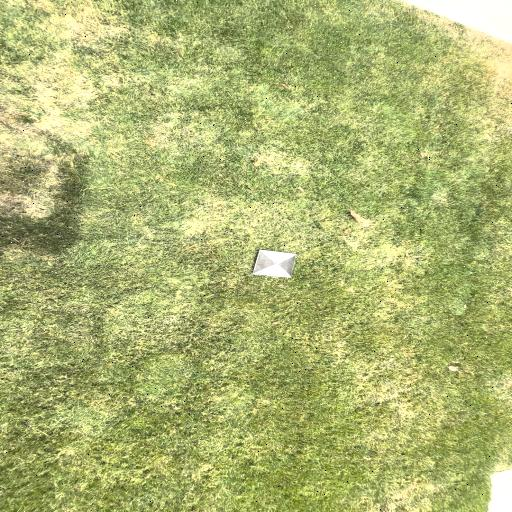target: (253, 250, 297, 277)
